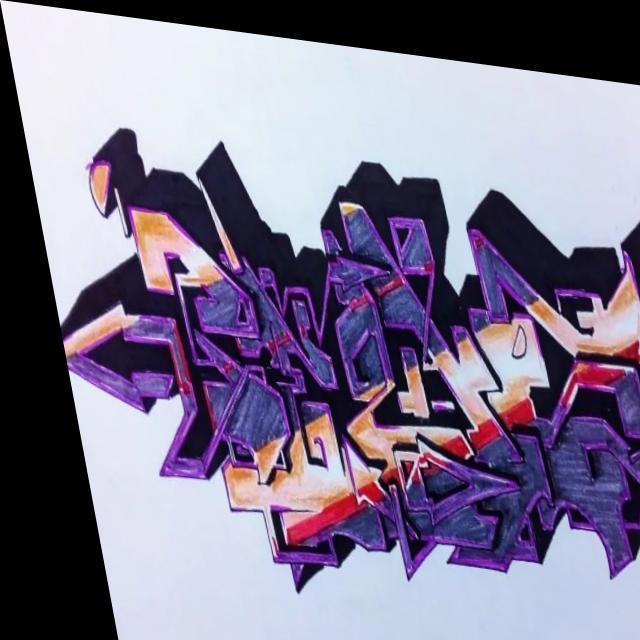nonspitting: (57, 127, 640, 597)
